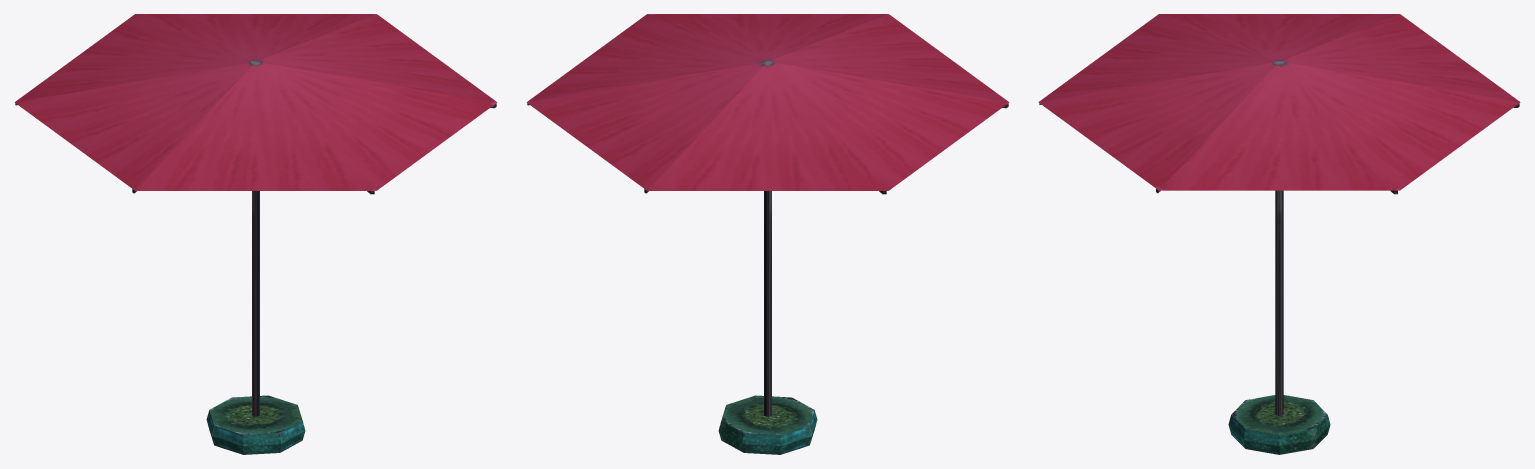
The model's file is Umbrella01b.obj.
The picture shows the model from 3 angles, left to right: view 1: azimuth 30°, elevation 25°; view 2: azimuth 150°, elevation 25°; view 3: azimuth 270°, elevation 25°; orthographic projection.
Parts seen in each view (by area): view 1: Umbrella.ClothOpen, Umbrella01.Base; view 2: Umbrella.ClothOpen, Umbrella01.Base; view 3: Umbrella.ClothOpen, Umbrella01.Base.
Boxes of the visible parts, x1,y1,x2,y2 form: Umbrella.ClothOpen: (14, 14, 497, 194); Umbrella01.Base: (206, 191, 305, 454); Umbrella.ClothOpen: (526, 14, 1009, 194); Umbrella01.Base: (718, 191, 817, 454); Umbrella.ClothOpen: (1038, 14, 1520, 194); Umbrella01.Base: (1228, 190, 1330, 454).
Bounding box in the file's own units: 5.2 × 5.1 × 6.
